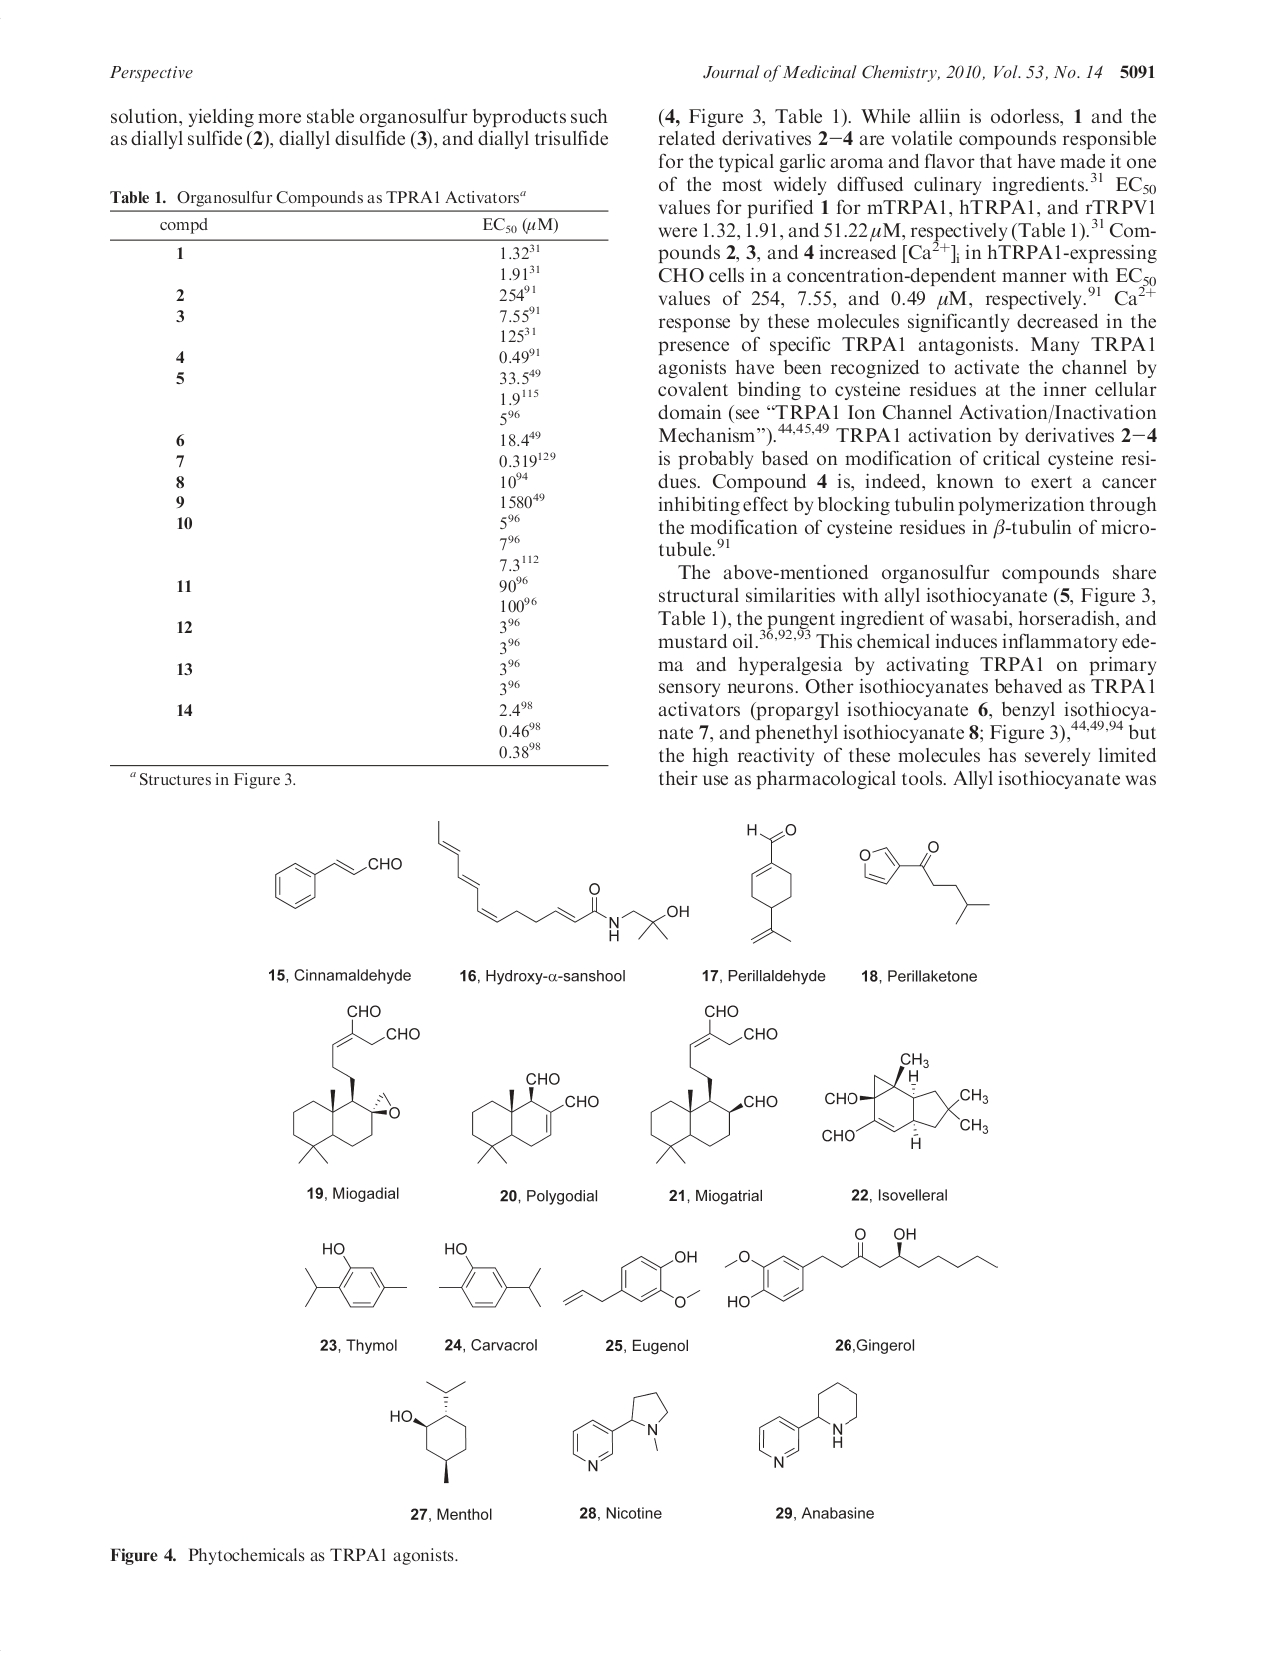exist_molecular: (430, 809, 692, 950), (281, 993, 430, 1170), (719, 1223, 1009, 1314), (637, 1001, 786, 1168), (813, 1044, 993, 1150), (460, 1068, 602, 1170), (851, 829, 989, 930), (553, 1239, 713, 1323), (750, 1372, 874, 1472), (390, 1370, 489, 1491), (564, 1382, 680, 1481), (430, 1230, 544, 1325), (269, 846, 423, 914), (737, 817, 806, 954), (299, 1230, 407, 1318)
